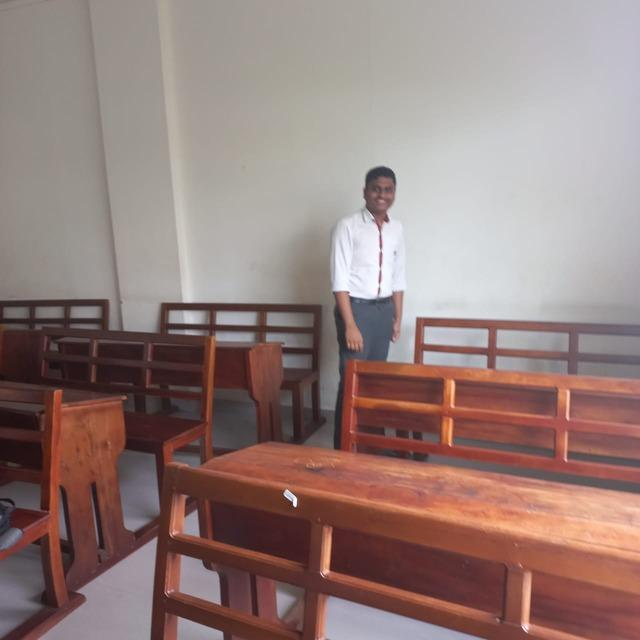bare_hand: (345, 324, 365, 354), (393, 319, 403, 343)
